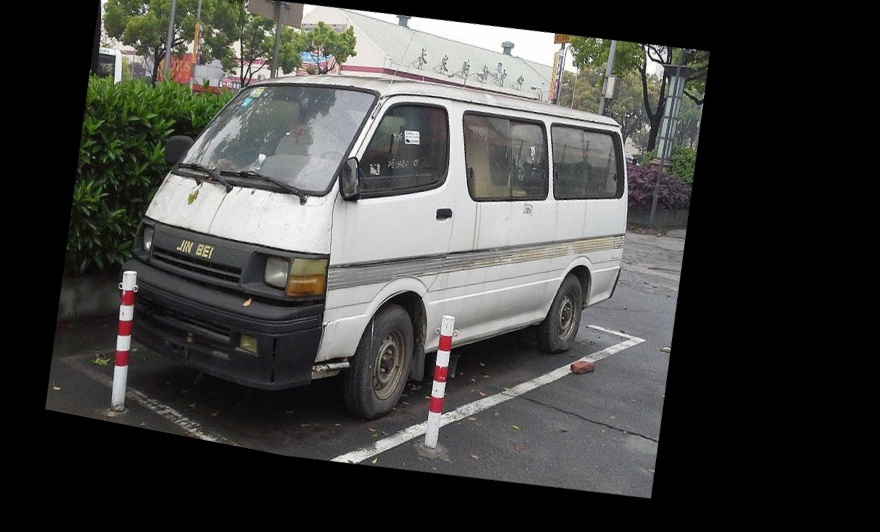van: (101, 13, 667, 449)
